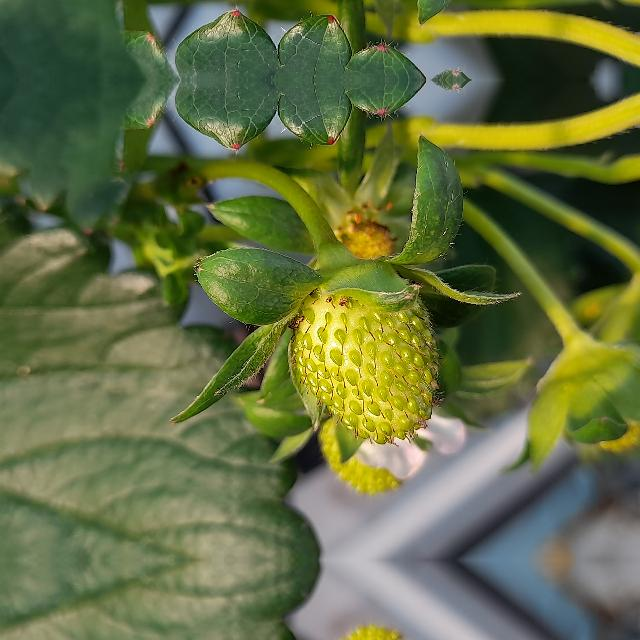Health_25: (292, 268, 442, 447)
